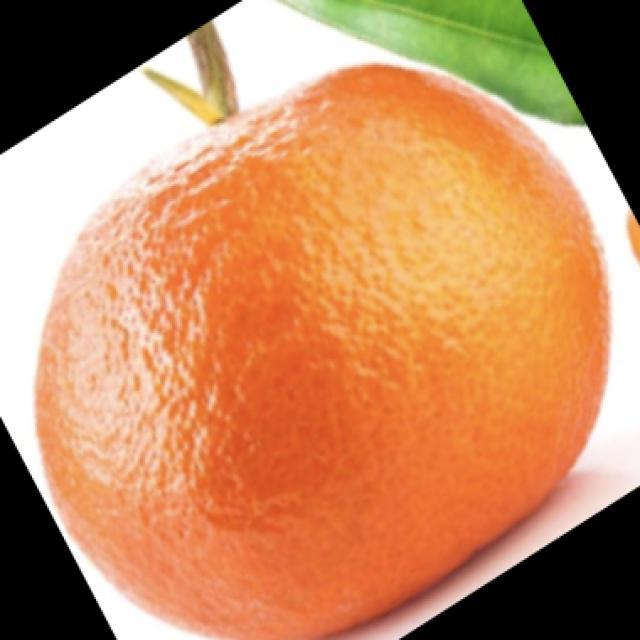matang: (37, 65, 608, 639)
